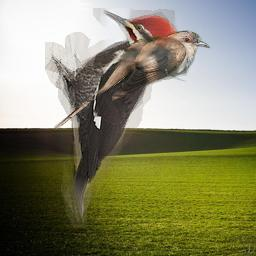Cuckoo: (54, 30, 210, 131)
Woodpecker: (45, 8, 180, 228)
